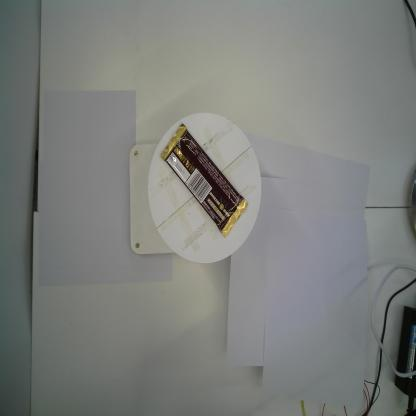Chocolate: (158, 121, 251, 242)
